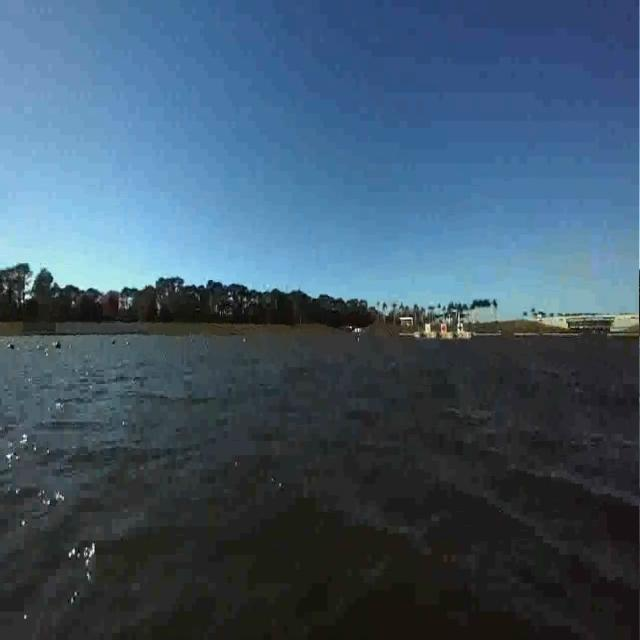black-buoy: (56, 339, 60, 351)
